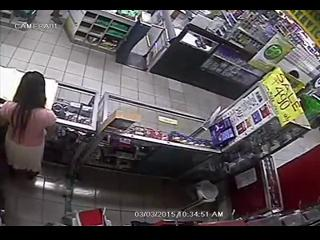Normal: (0, 71, 57, 180)
